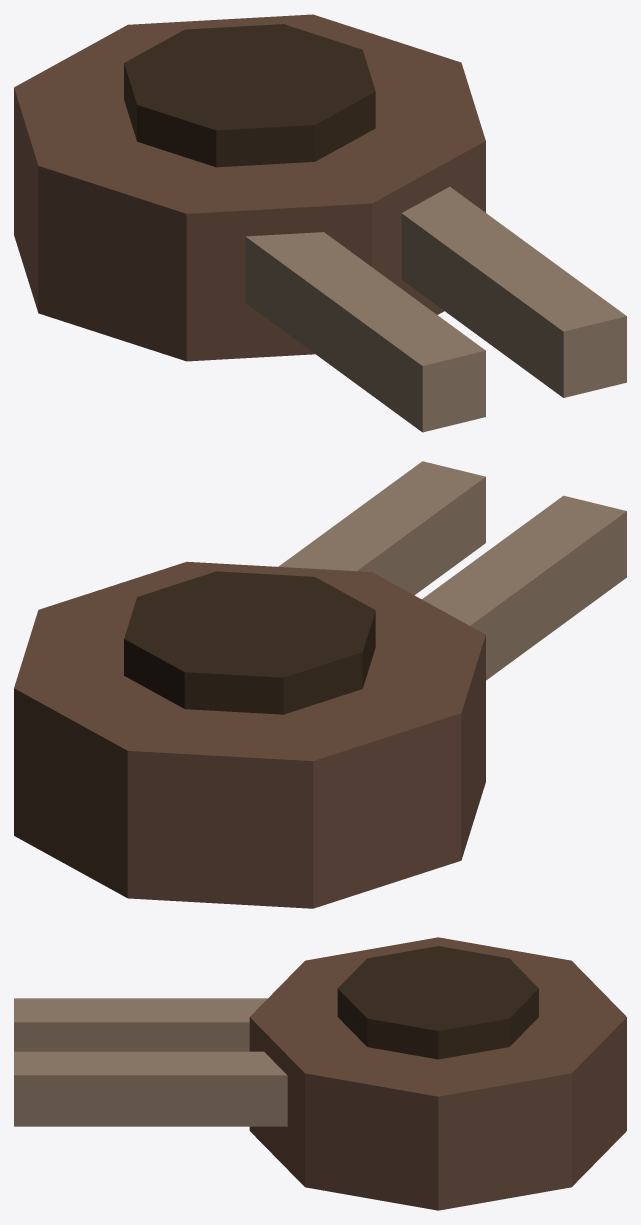
Rendered from bossgun.glb.
3 renders of one model, top to bottom at view 1: azimuth 30°, elevation 25°; view 2: azimuth 150°, elevation 25°; view 3: azimuth 270°, elevation 25°, orthographic. The views are drawn at different scales.
Visible parts, largest first — view 1: Drum, Top, Barrel1, Barrel2; view 2: Drum, Top, Barrel1, Barrel2; view 3: Drum, Barrel2, Top, Barrel1.
Part boxes in pixels (x1,y1,x2,y2): Drum: [14, 14, 485, 361]; Top: [124, 24, 375, 167]; Barrel1: [245, 232, 485, 432]; Barrel2: [401, 186, 626, 397]; Drum: [14, 561, 485, 908]; Top: [124, 571, 375, 714]; Barrel1: [422, 495, 626, 680]; Barrel2: [278, 461, 485, 595]; Drum: [249, 937, 626, 1210]; Barrel2: [14, 1051, 287, 1126]; Top: [337, 946, 538, 1059]; Barrel1: [14, 998, 267, 1051].
Bounding box in the file's own units: 0.6 × 0.25 × 0.975.
